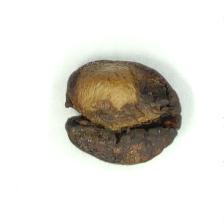NG: (65, 59, 181, 166)
